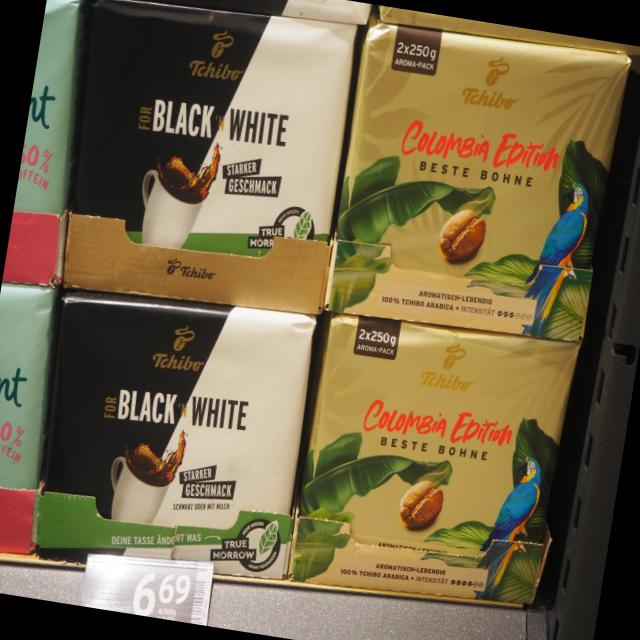BW Gemahlen: (61, 0, 362, 318), (34, 292, 321, 585)
Colombia BB Gemahlen: (322, 12, 636, 354), (284, 314, 584, 609)
